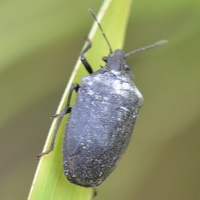insect: (28, 0, 142, 199)
